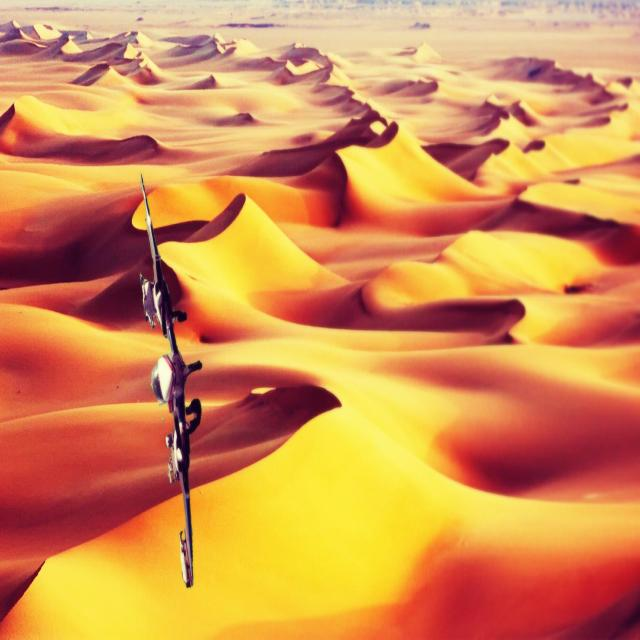airplane: (137, 171, 203, 590)
